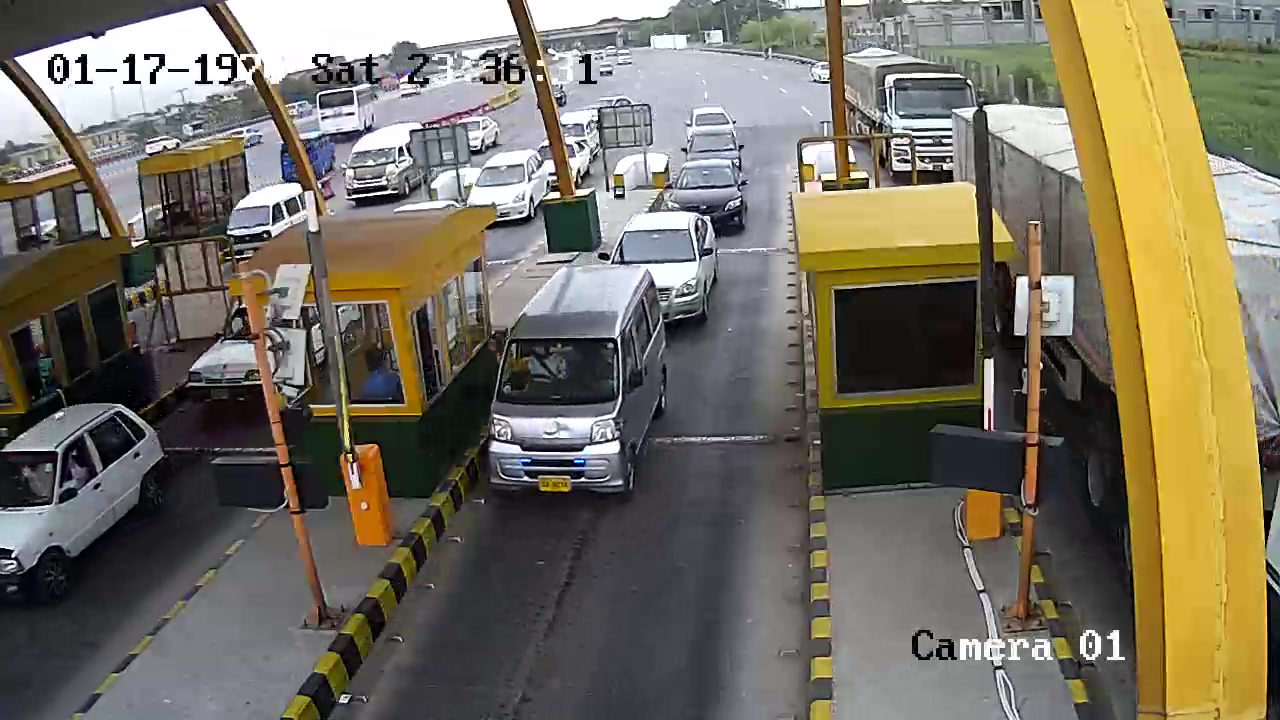F1: (487, 254, 660, 507)
